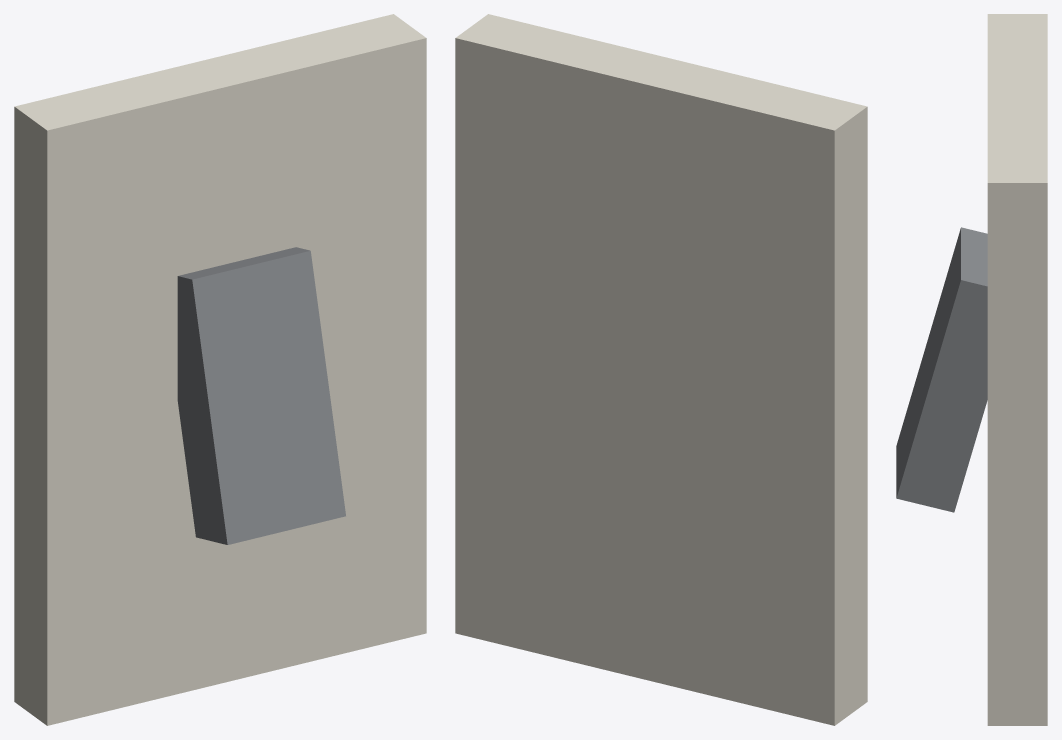
File: GD_LightSwitch_01.glb
The picture shows the model from 3 angles, left to right: view 1: azimuth 30°, elevation 25°; view 2: azimuth 150°, elevation 25°; view 3: azimuth 270°, elevation 25°; orthographic projection. The views are drawn at different scales.
Parts seen in each view (by area): view 1: GD_LightSwitch_01; view 2: GD_LightSwitch_01; view 3: GD_LightSwitch_01.
Part boxes in pixels (x1,y1,x2,y2): GD_LightSwitch_01: (14,14,426,725); GD_LightSwitch_01: (455,14,867,725); GD_LightSwitch_01: (896,14,1047,725).
Size of the model in its own units: 0.08 by 0.12 by 0.0303.
1 material, 1 textured.
